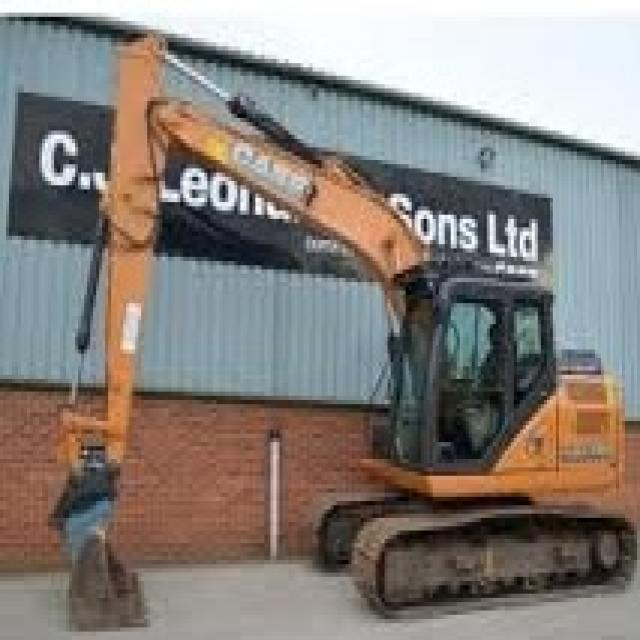excavator: (322, 242, 636, 604)
